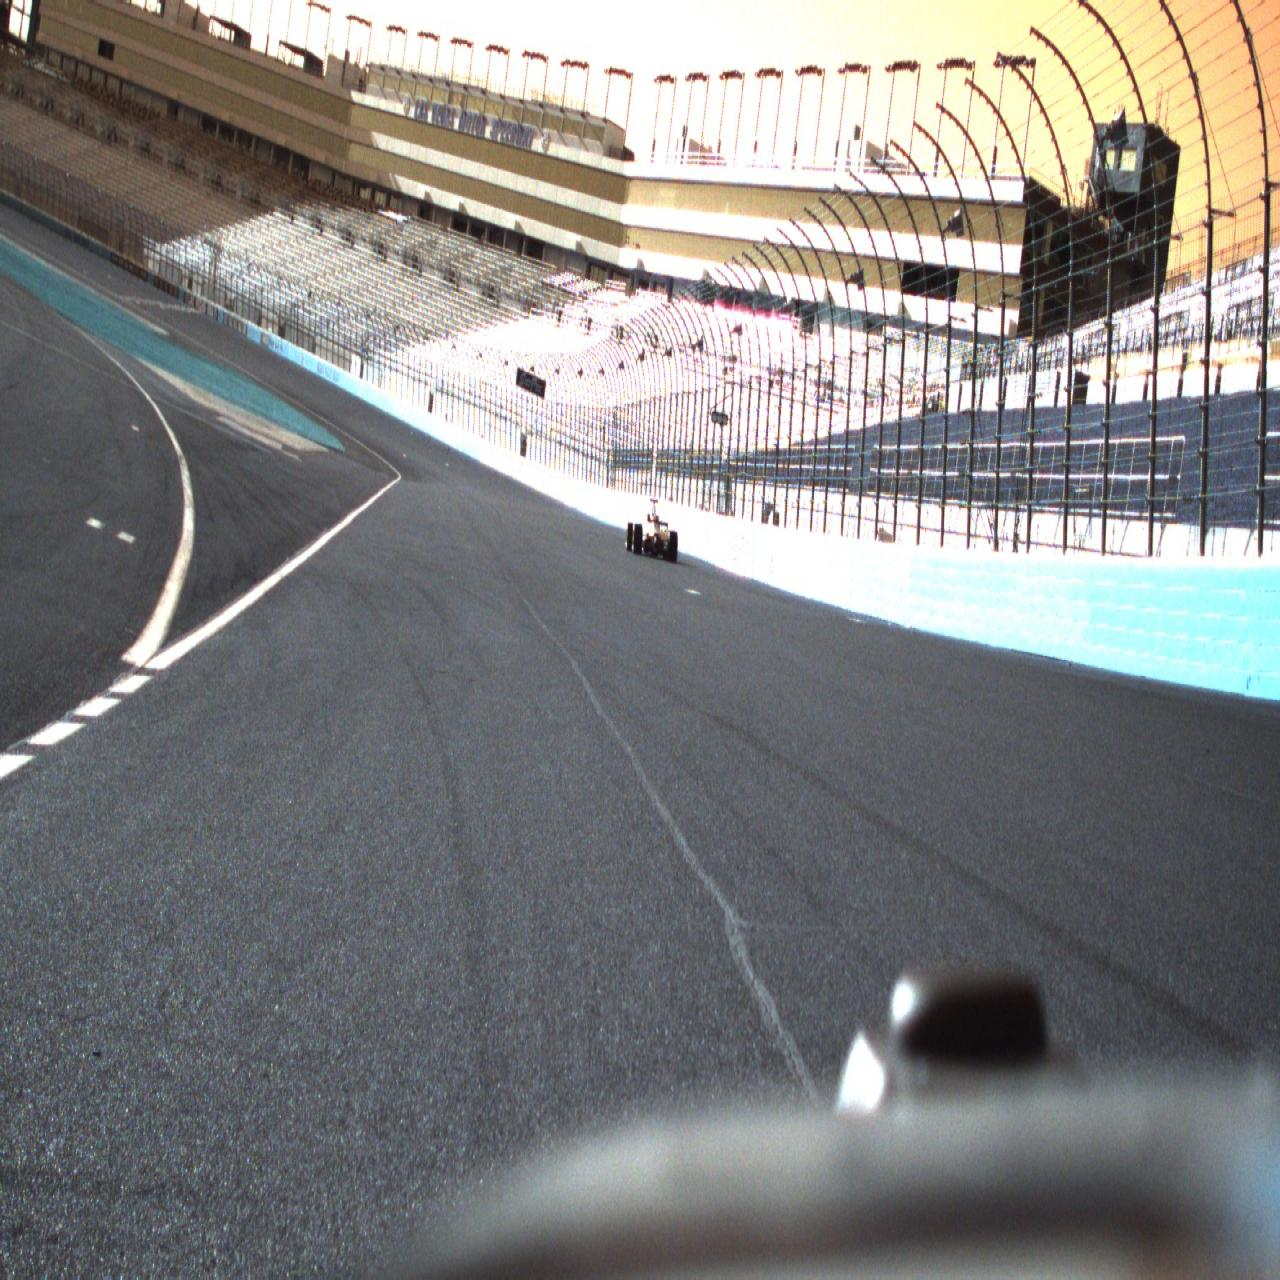AV: (625, 498, 679, 561)
Wheel: (667, 531, 678, 561), (633, 524, 642, 554), (626, 523, 633, 552)
